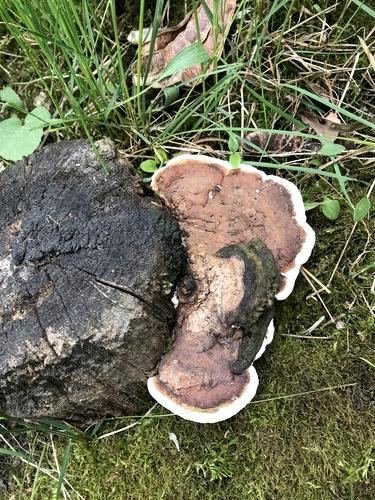Ganoderma - Fruit Body: (151, 155, 315, 424)
